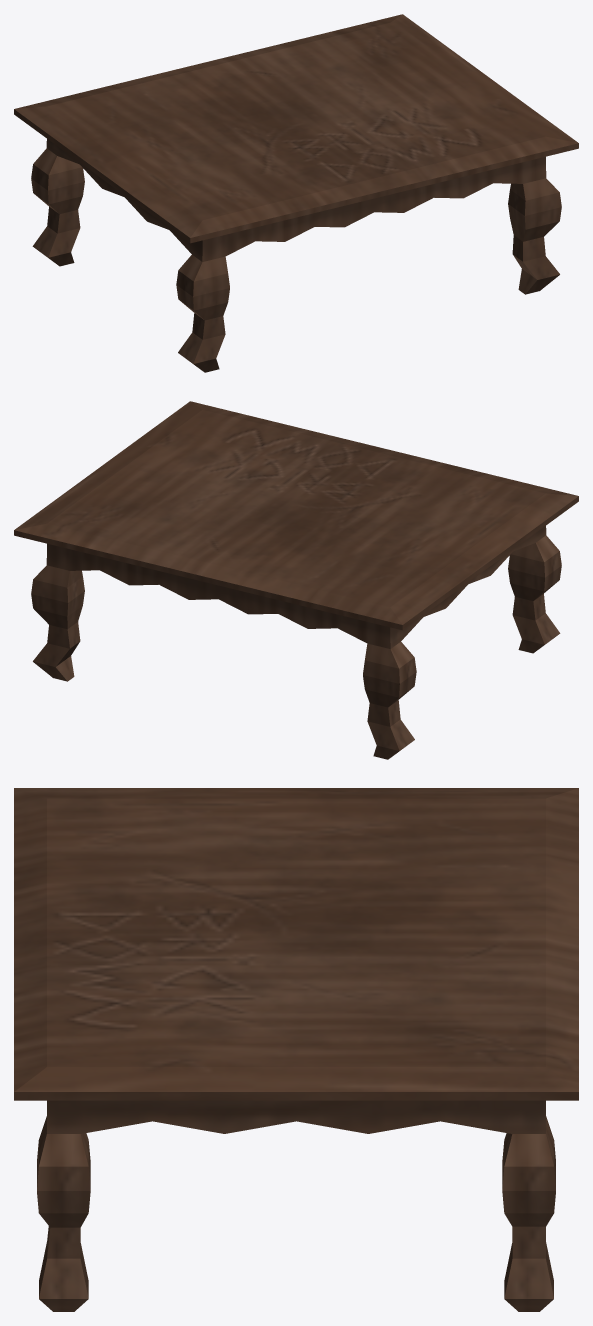
File: Mesinha.fbx
The picture shows the model from 3 angles, top to bottom: view 1: azimuth 30°, elevation 25°; view 2: azimuth 150°, elevation 25°; view 3: azimuth 270°, elevation 25°; orthographic projection. The views are drawn at different scales.
Visible parts, largest first — view 1: WoodenTable; view 2: WoodenTable; view 3: WoodenTable.
Boxes of the visible parts, left/top/right/bottom form: WoodenTable: left=14, top=14, right=578, bottom=372; WoodenTable: left=14, top=401, right=578, bottom=759; WoodenTable: left=14, top=788, right=578, bottom=1311.
Bounding box in the file's own units: 97.87 × 37.26 × 76.85.
Materials: 1 (1 with a texture image).
